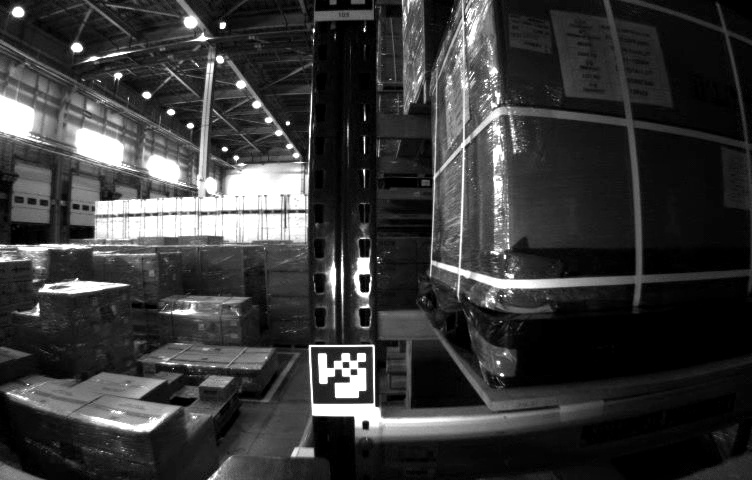True Barcode: (507, 12, 551, 56)
